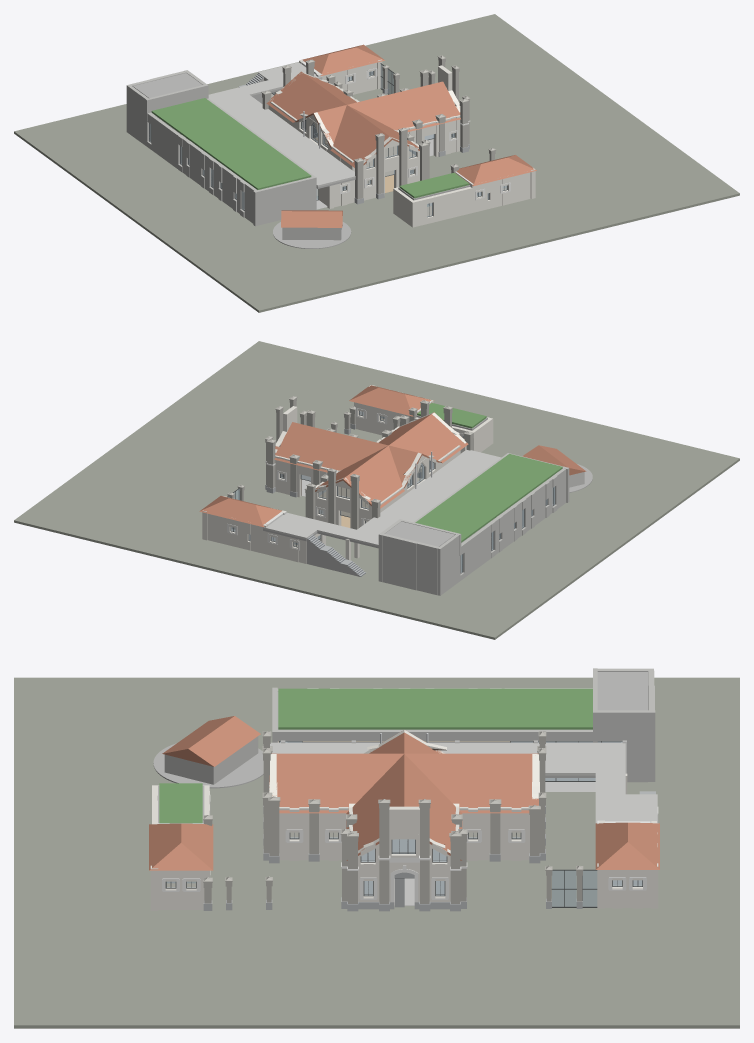
File: projeto_final.fbx
3 renders of one model, top to bottom at view 1: azimuth 30°, elevation 25°; view 2: azimuth 150°, elevation 25°; view 3: azimuth 270°, elevation 25°, orthographic. The views are drawn at different scales.
Parts seen in each view (by area): view 1: Terreno, Paredes_Edificio_Existente, Paredes_Volume_Novo, Cobertura_Principal, Cobertura_Ajardinada, Terraco_Piso1, Pilares, Capiteis_Pilares, Cobertura_Anexo_Sul, Lajes_Estrutura, Cobertura_Anexo_Norte, Vidros (+5 smaller); view 2: Terreno, Paredes_Volume_Novo, Paredes_Edificio_Existente, Cobertura_Principal, Cobertura_Ajardinada, Terraco_Piso1, Pilares, Capiteis_Pilares, Cobertura_Anexo_Norte, Lajes_Estrutura, Cobertura_Anexo_Sul, Vidros (+4 smaller); view 3: Terreno, Cobertura_Principal, Cobertura_Ajardinada, Paredes_Edificio_Existente, Paredes_Volume_Novo, Pilares, Terraco_Piso1, Vidros, Cobertura_Anexo_Norte, Cobertura_Anexo_Sul, Casa_Giratoria_Cobertura, Capiteis_Pilares (+8 smaller).
Boxes of the visible parts, x1,y1,x2,y2 form: Terreno: [14, 14, 739, 312]; Paredes_Edificio_Existente: [268, 45, 535, 227]; Paredes_Volume_Novo: [126, 70, 316, 226]; Cobertura_Principal: [266, 71, 460, 167]; Cobertura_Ajardinada: [151, 98, 469, 198]; Terraco_Piso1: [208, 62, 355, 186]; Pilares: [262, 61, 494, 199]; Capiteis_Pilares: [261, 55, 496, 171]; Cobertura_Anexo_Sul: [455, 155, 536, 186]; Lajes_Estrutura: [132, 73, 470, 200]; Cobertura_Anexo_Norte: [302, 44, 384, 76]; Vidros: [149, 64, 506, 216]; Terreno: [14, 341, 739, 639]; Paredes_Volume_Novo: [378, 453, 569, 595]; Paredes_Edificio_Existente: [202, 385, 493, 563]; Cobertura_Principal: [274, 412, 468, 508]; Cobertura_Ajardinada: [415, 403, 562, 542]; Terraco_Piso1: [263, 450, 501, 546]; Pilares: [233, 401, 472, 529]; Capiteis_Pilares: [227, 396, 473, 507]; Cobertura_Anexo_Norte: [199, 496, 282, 527]; Lajes_Estrutura: [263, 415, 527, 548]; Cobertura_Anexo_Sul: [349, 385, 434, 416]; Vidros: [228, 411, 554, 572]; Terreno: [14, 677, 739, 1028]; Cobertura_Principal: [269, 731, 538, 860]; Cobertura_Ajardinada: [159, 688, 592, 823]; Paredes_Edificio_Existente: [150, 729, 658, 910]; Paredes_Volume_Novo: [272, 668, 655, 781]; Pilares: [204, 744, 582, 903]; Terraco_Piso1: [270, 742, 657, 823]; Vidros: [166, 741, 642, 906]; Cobertura_Anexo_Norte: [595, 822, 659, 869]; Cobertura_Anexo_Sul: [149, 823, 213, 870]; Casa_Giratoria_Cobertura: [162, 716, 260, 766]; Capiteis_Pilares: [203, 731, 583, 887].
Size of the model in its own units: 8500 by 1306 by 7500.
